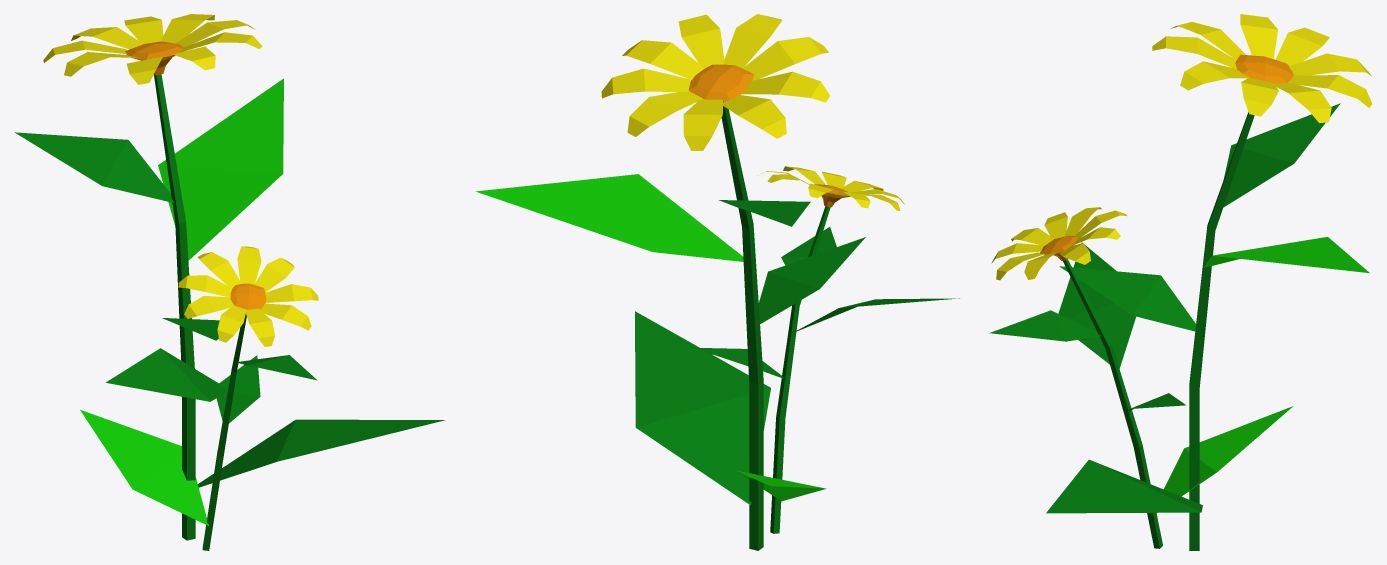
The model's file is flower01.glb.
3 renders of one model, left to right at view 1: azimuth 30°, elevation 25°; view 2: azimuth 150°, elevation 25°; view 3: azimuth 270°, elevation 25°, orthographic. The views are drawn at different scales.
Visible parts, largest first — view 1: Cube.001; view 2: Cube.001; view 3: Cube.001.
Boxes of the visible parts, x1,y1,x2,y2 form: Cube.001: (14,14,445,550); Cube.001: (475,14,959,550); Cube.001: (989,14,1372,550).
Size of the model in its own units: 0.2532 by 0.3653 by 0.2505.
